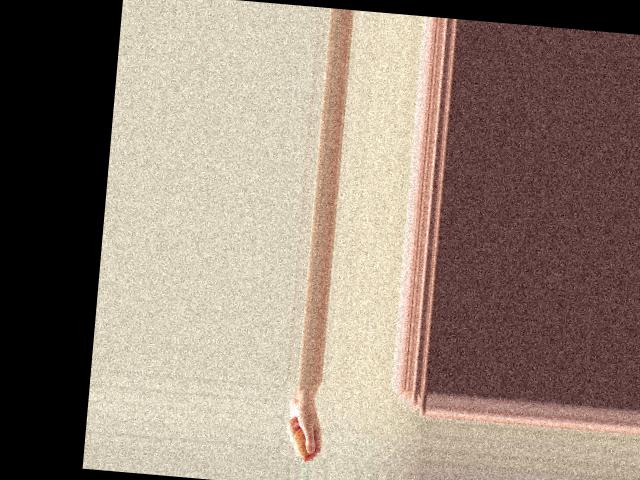egg: (290, 428, 314, 457)
